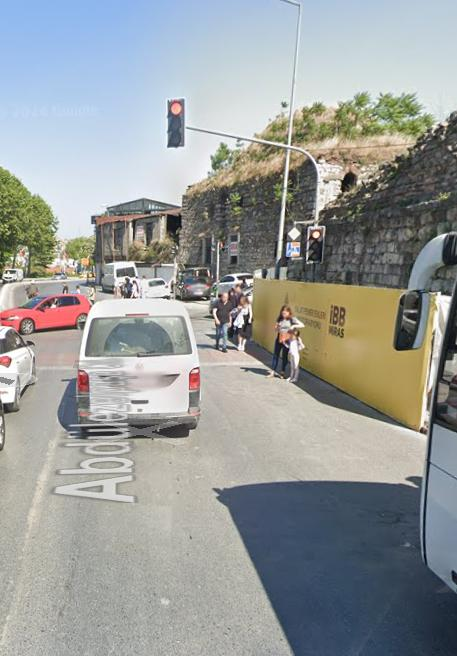redlight: (166, 99, 186, 149), (305, 225, 327, 267)
